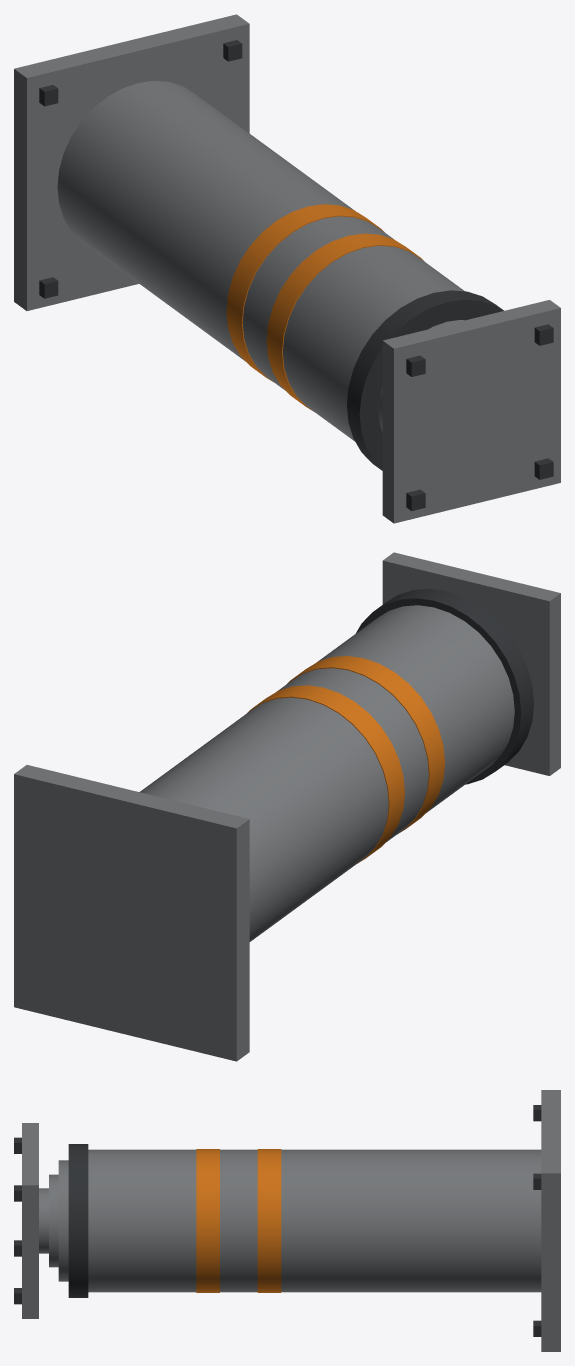
File: RoboticsTelescopicCylinder.obj
3 renders of one model, top to bottom at view 1: azimuth 30°, elevation 25°; view 2: azimuth 150°, elevation 25°; view 3: azimuth 270°, elevation 25°, orthographic. The views are drawn at different scales.
Parts seen in each view (by area): view 1: Base, Tip; view 2: Base, Tip; view 3: Base, Tip, Stage1, Stage2, Stage3.
Part boxes in pixels (left/top/right/bottom): Base: left=14, top=14, right=503, bottom=470; Tip: left=382, top=300, right=560, bottom=523; Base: left=14, top=589, right=533, bottom=1061; Tip: left=382, top=552, right=560, bottom=775; Base: left=68, top=1090, right=560, bottom=1351; Tip: left=14, top=1123, right=38, bottom=1318; Stage1: left=58, top=1160, right=68, bottom=1281; Stage2: left=49, top=1174, right=58, bottom=1267; Stage3: left=39, top=1188, right=48, bottom=1253.
Size of the model in its own units: 0.4 by 0.4 by 1.11.
